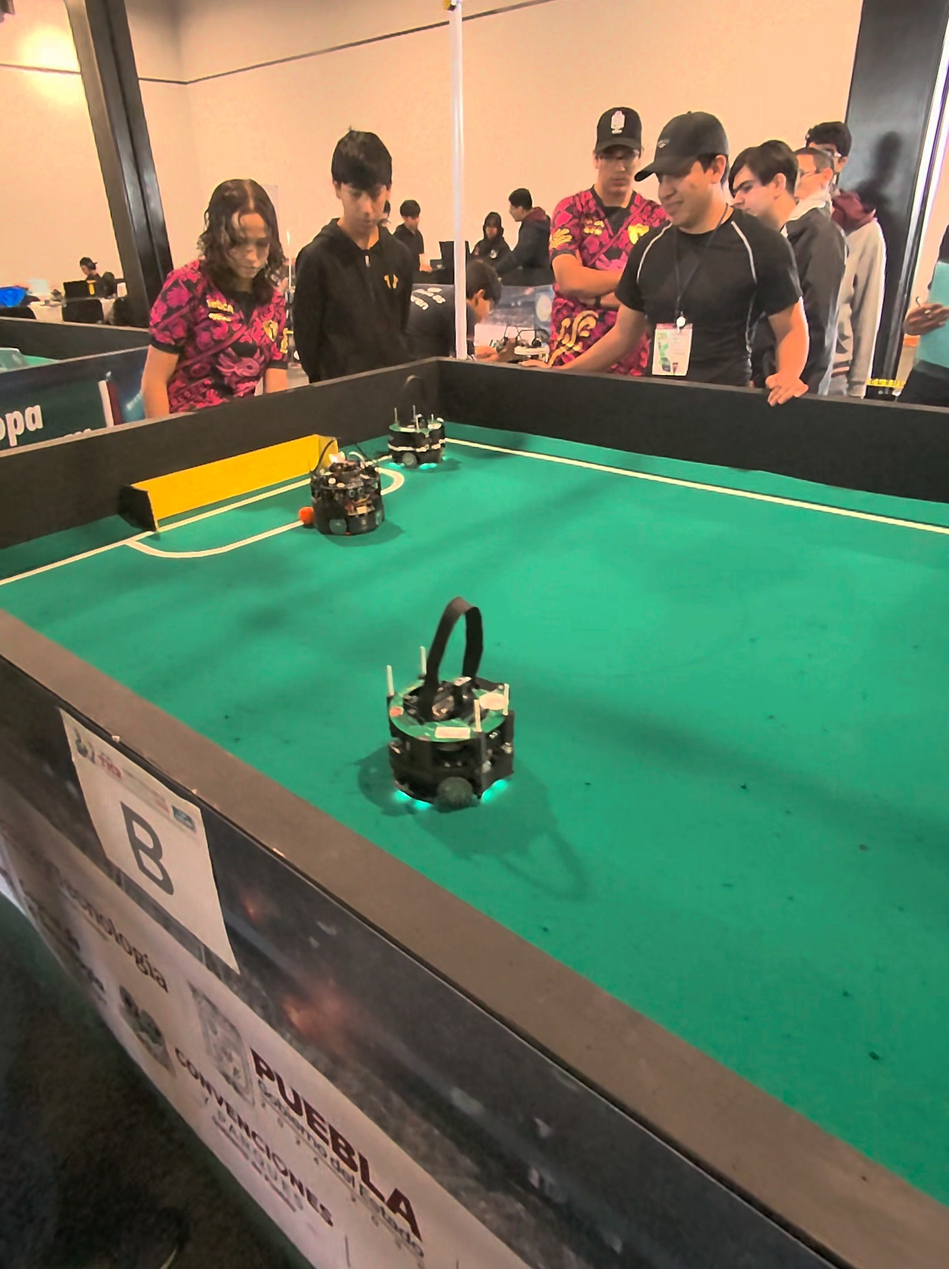Robot: (371, 584, 520, 830), (296, 444, 385, 543), (386, 363, 452, 475)
pelota: (299, 505, 314, 522)
